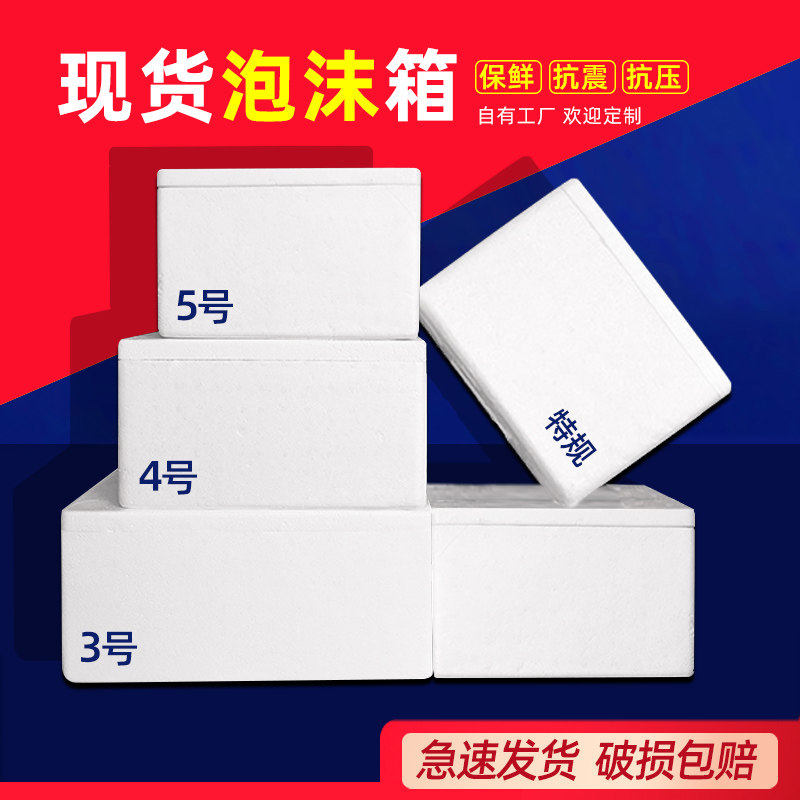Boxes: (62, 169, 730, 682)
